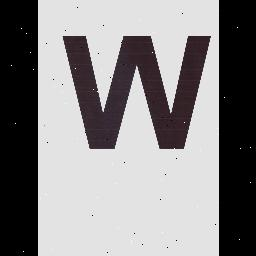w: (56, 26, 218, 162)
